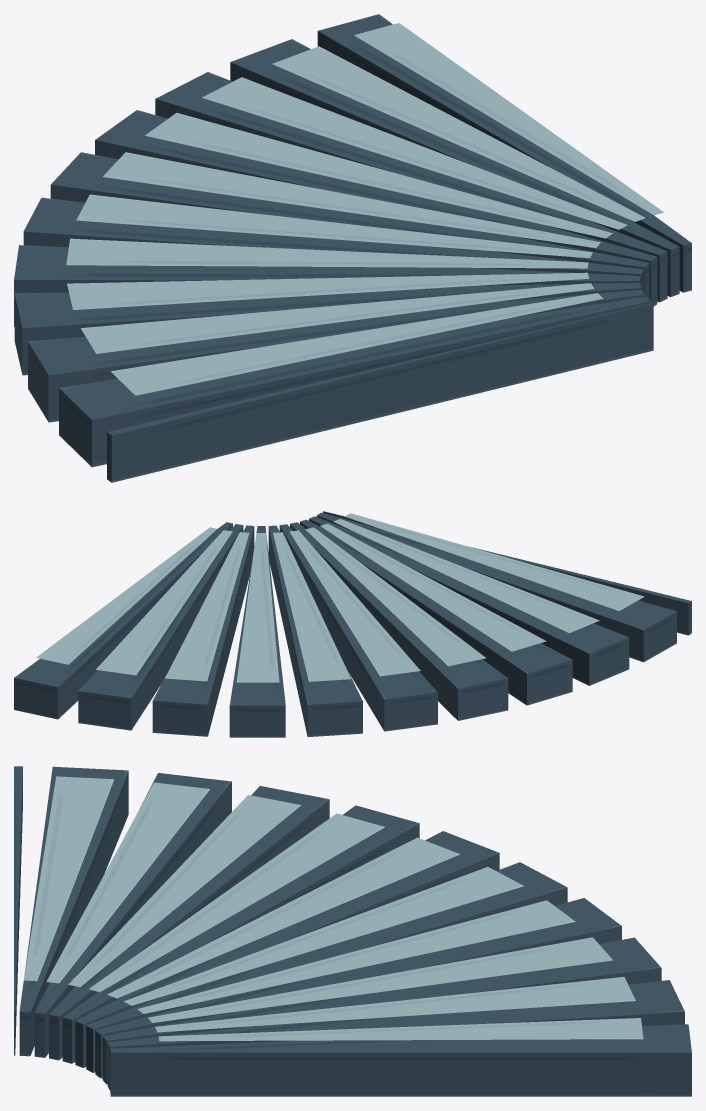
Rendered from sc_tread_curve_right_22.obj.
The picture shows the model from 3 angles, top to bottom: view 1: azimuth 30°, elevation 25°; view 2: azimuth 150°, elevation 25°; view 3: azimuth 270°, elevation 25°; orthographic projection. The views are drawn at different scales.
Bounding box in the file's own units: 17.5 × 1.56 × 17.5.
Materials: 1 (1 with a texture image).
